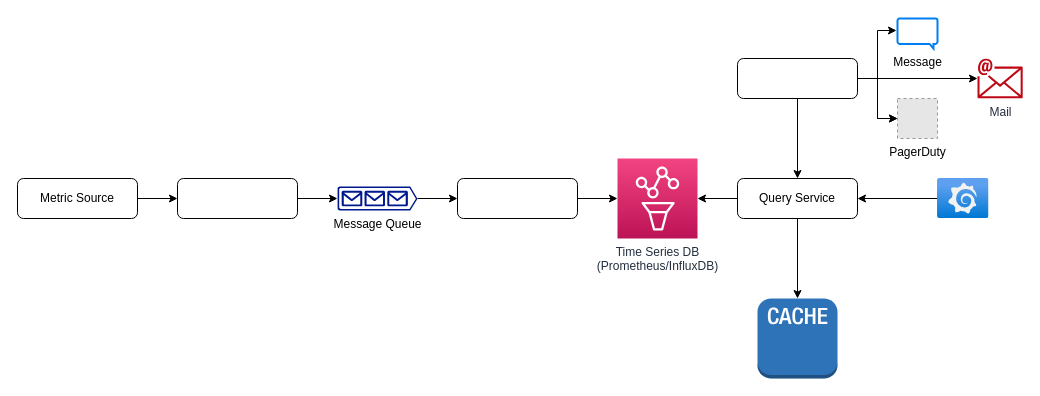
The diagram is 1040 pixels wide and 396 high, and some of its shapes have lost their labels. Grey dashed boxes stand in for pictures. Here are the shapes that lost their labels. From the top down, the centre of each, then its label:
the point at 797,78: Alerting System
the point at 237,198: Metric Collector
the point at 517,198: Consumers
the point at 962,198: Visualization System (Grafana)
